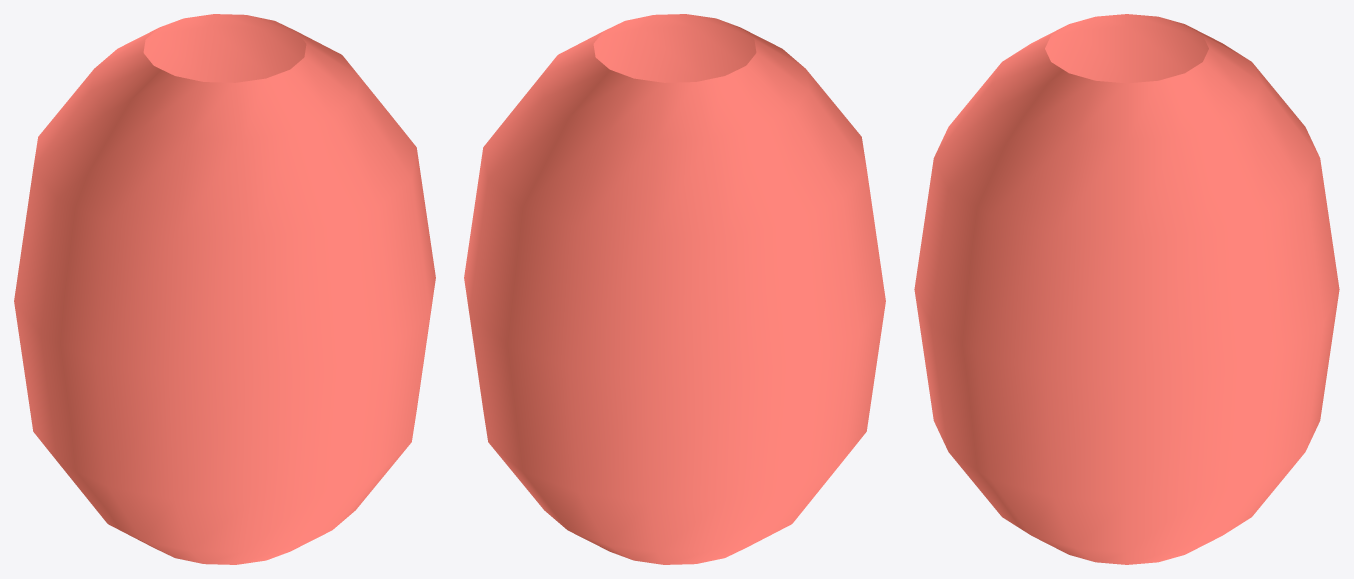
The model's file is lantern.glb.
3 views of the same model, side by side, from view 1: azimuth 30°, elevation 25°; view 2: azimuth 150°, elevation 25°; view 3: azimuth 270°, elevation 25° (orthographic).
Visible parts, largest first — view 1: Paper lantern; view 2: Paper lantern; view 3: Paper lantern.
Part boxes in pixels (x1,y1,x2,y2): Paper lantern: [14, 14, 435, 564]; Paper lantern: [464, 14, 885, 564]; Paper lantern: [914, 14, 1339, 564].
Size of the model in its own units: 0.88 by 1.1 by 0.88.
